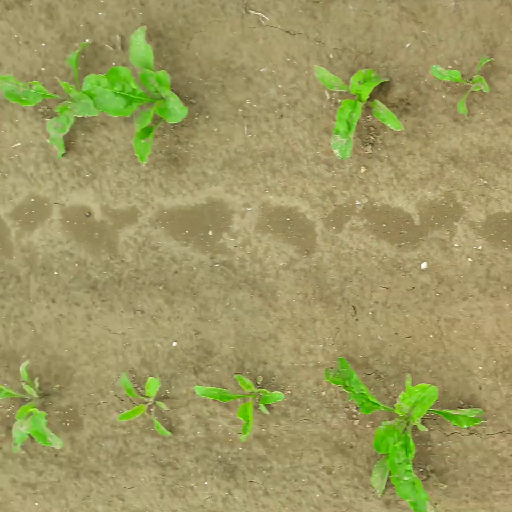sugarbeet: (314, 346, 494, 512), (82, 23, 192, 173), (1, 38, 97, 158), (311, 60, 411, 160), (190, 370, 289, 444), (1, 359, 67, 452), (426, 54, 498, 120), (113, 371, 178, 437)
